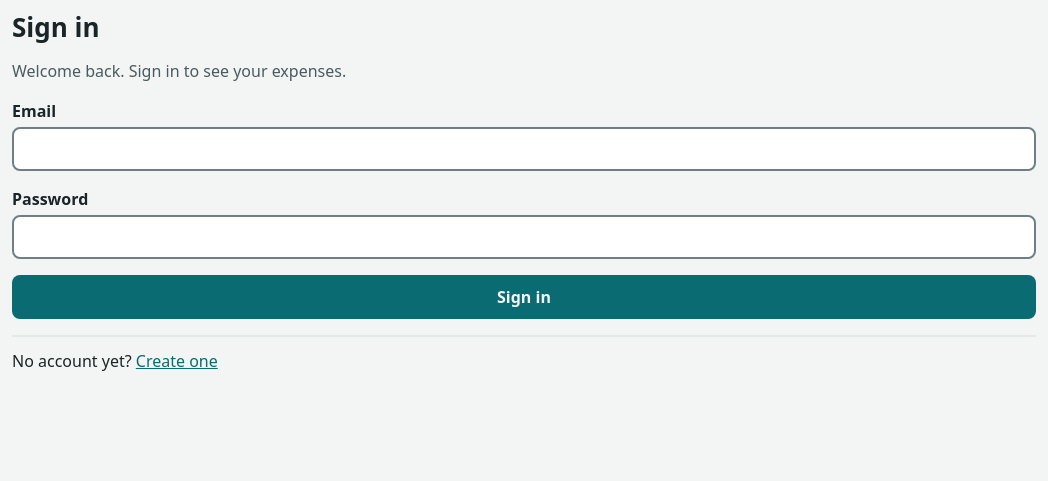
Scenario: LoginView › shows validation errors next to the fields
Step 1. Type "ada@example.com" into the field labelled "Email" → coordinates (524, 149), box 12,127 -> 1036,171
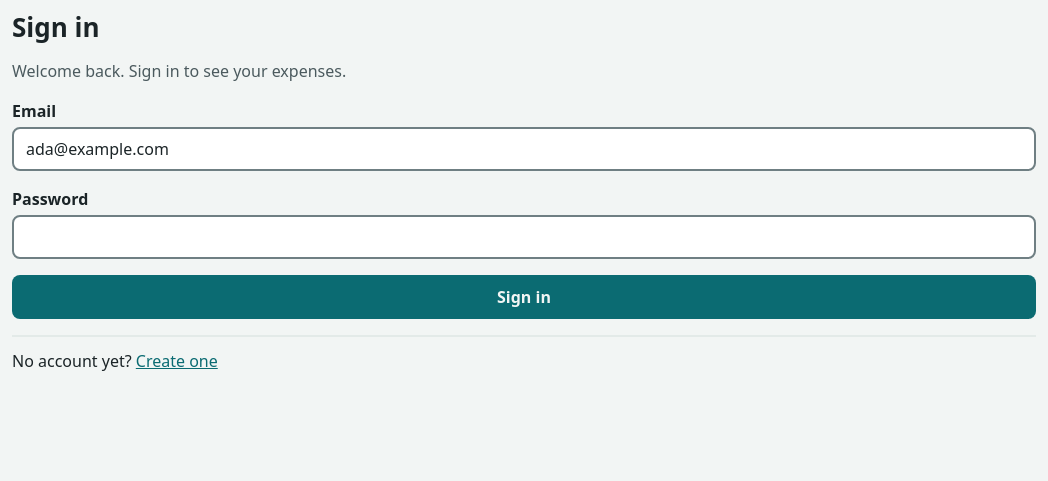
Step 2. Type "secret-pw" into the password field labelled "Password" → coordinates (524, 237), box 12,215 -> 1036,259
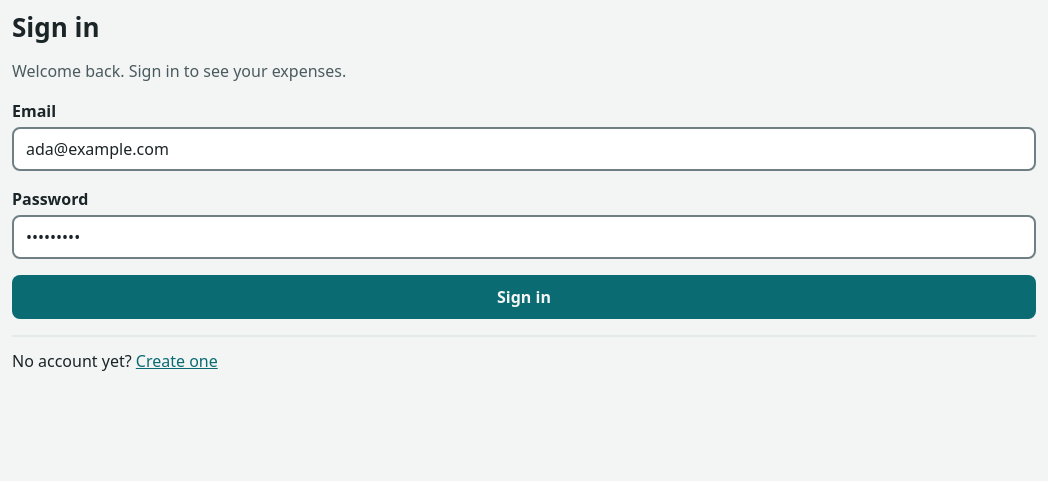
Step 3. Submit the form, box 12,99 -> 1036,319
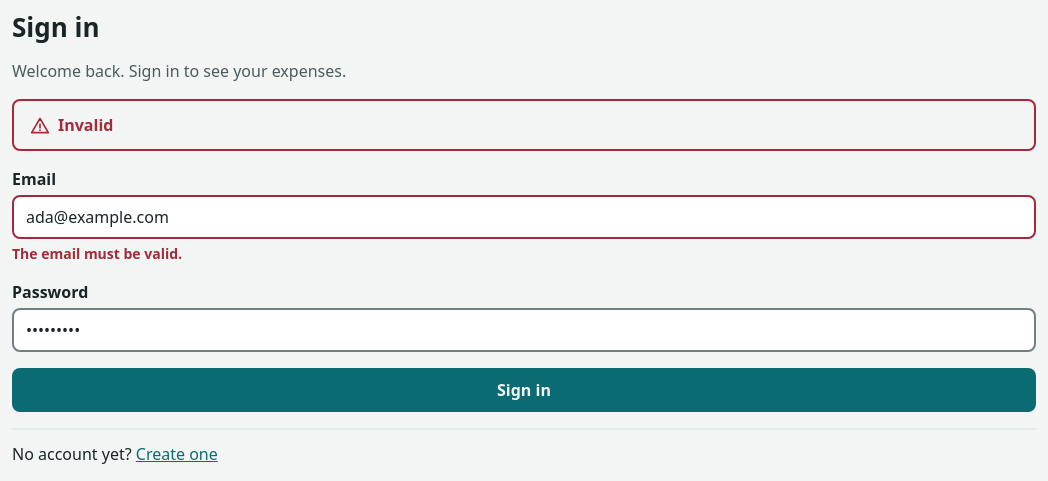
Now the element showing "The email must be valid." is shown, box 12,244 -> 182,263
